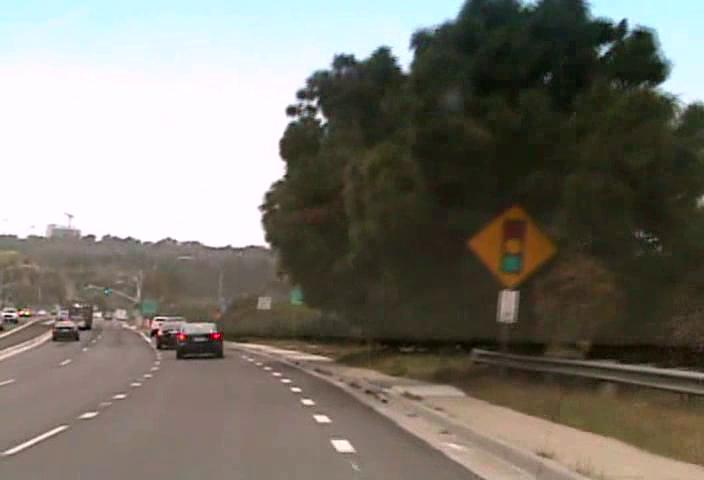signalAhead: (466, 202, 557, 290)
